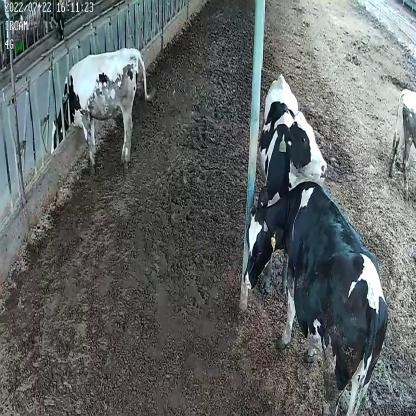cow: (242, 181, 388, 416), (50, 44, 156, 172), (257, 70, 329, 200)
